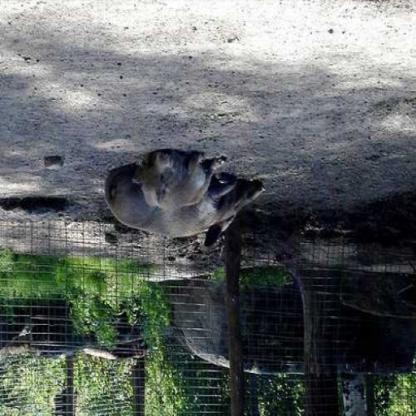boar: (84, 182, 248, 250)
